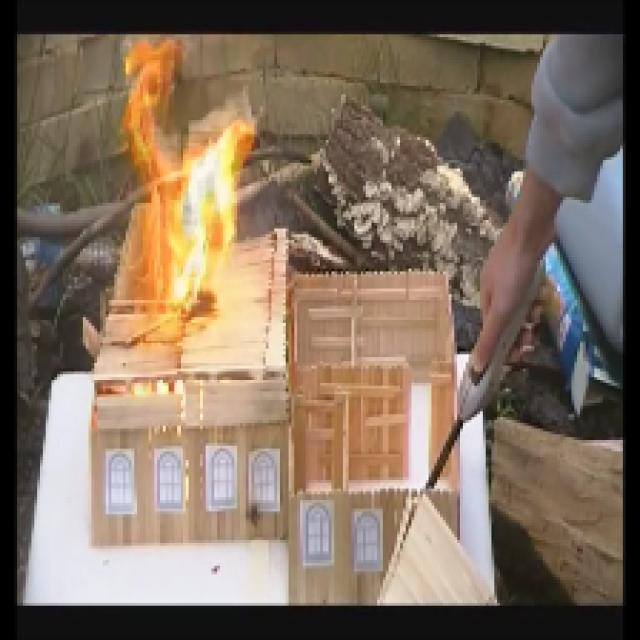Fire: (113, 36, 260, 354)
